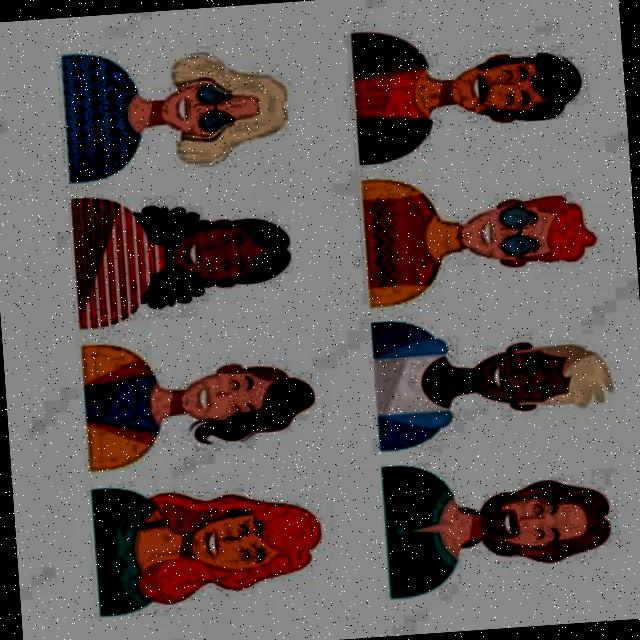happy: (144, 46, 297, 163), (442, 24, 596, 137), (447, 174, 597, 288), (180, 485, 331, 596), (461, 324, 616, 427), (462, 469, 620, 568), (146, 197, 299, 299), (172, 351, 330, 448)
